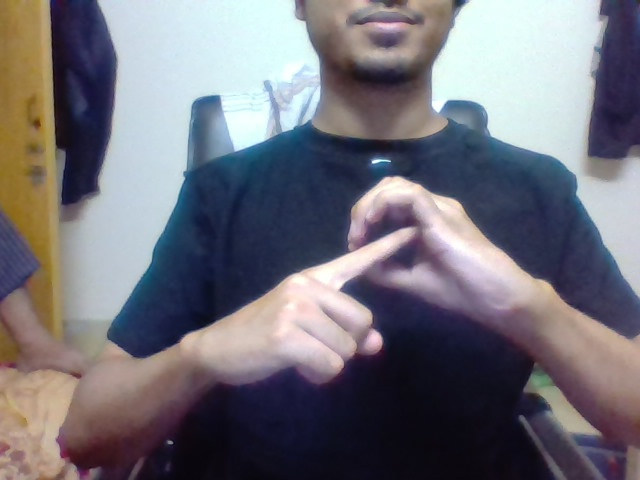Q: (354, 202, 432, 289)
